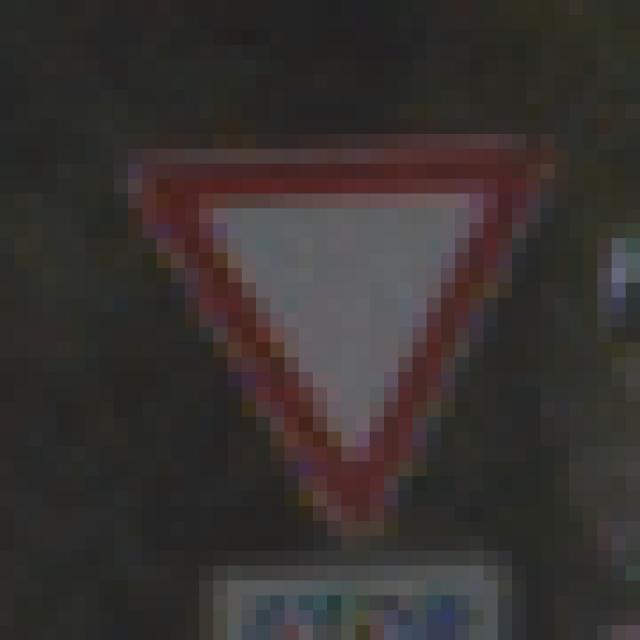Give Way: (86, 90, 570, 567)
